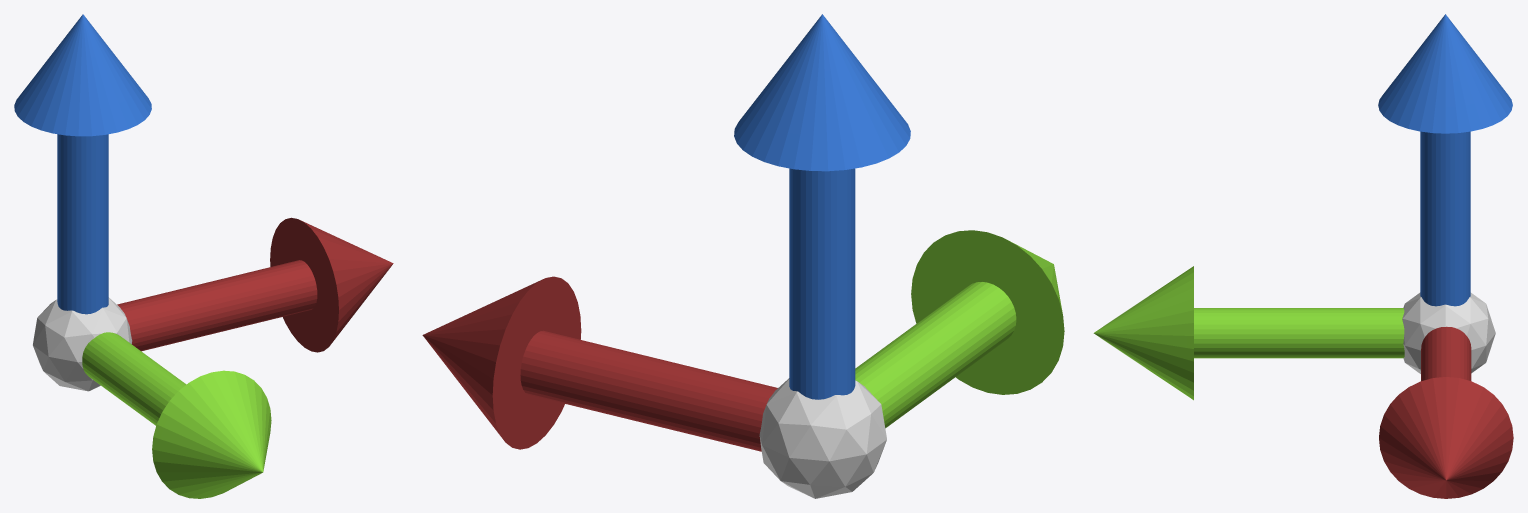
Rendered from MoveHandle.fbx.
The picture shows the model from 3 angles, left to right: view 1: azimuth 30°, elevation 25°; view 2: azimuth 150°, elevation 25°; view 3: azimuth 270°, elevation 25°; orthographic projection. The views are drawn at different scales.
Visible parts, largest first — view 1: Handle; view 2: Handle; view 3: Handle.
Part boxes in pixels (x1,y1,x2,y2): Handle: (14, 14, 393, 498); Handle: (422, 14, 1064, 498); Handle: (1093, 14, 1513, 498).
Bounding box in the file's own units: 166 × 167 × 167.
